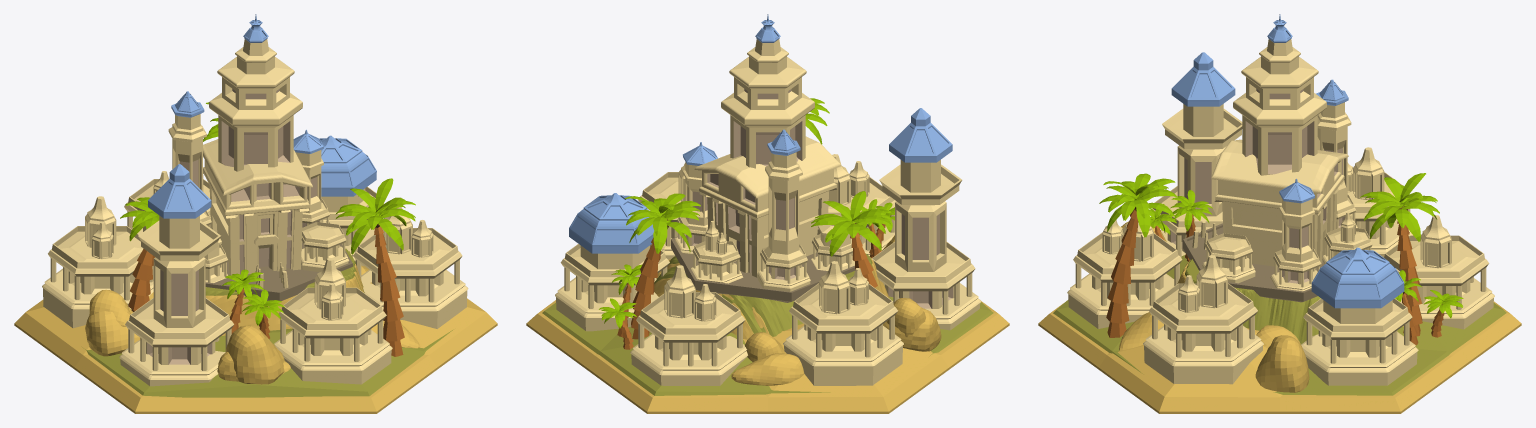
File: castle2.glb
3 views of the same model, side by side, from view 1: azimuth 30°, elevation 25°; view 2: azimuth 150°, elevation 25°; view 3: azimuth 270°, elevation 25° (orthographic).
Visible parts, largest first — view 1: land, big_details.001, building; view 2: land, big_details.001, building; view 3: land, big_details.001, building.
Part boxes in pixels (x1,y1,x2,y2): land: (14,14,497,413); big_details.001: (120,102,415,356); building: (205,221,352,300); land: (526,14,1009,413); big_details.001: (599,98,894,349); building: (671,236,854,302); land: (1038,14,1521,413); big_details.001: (1099,173,1463,345); building: (1183,223,1324,302).
Size of the model in its own units: 1.73 by 1.46 by 2.
Materials: 2 (2 with a texture image).
